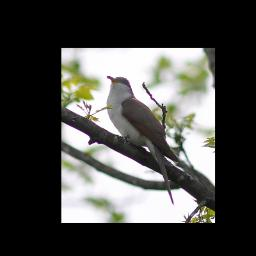Cuckoo: (105, 76, 181, 208)
